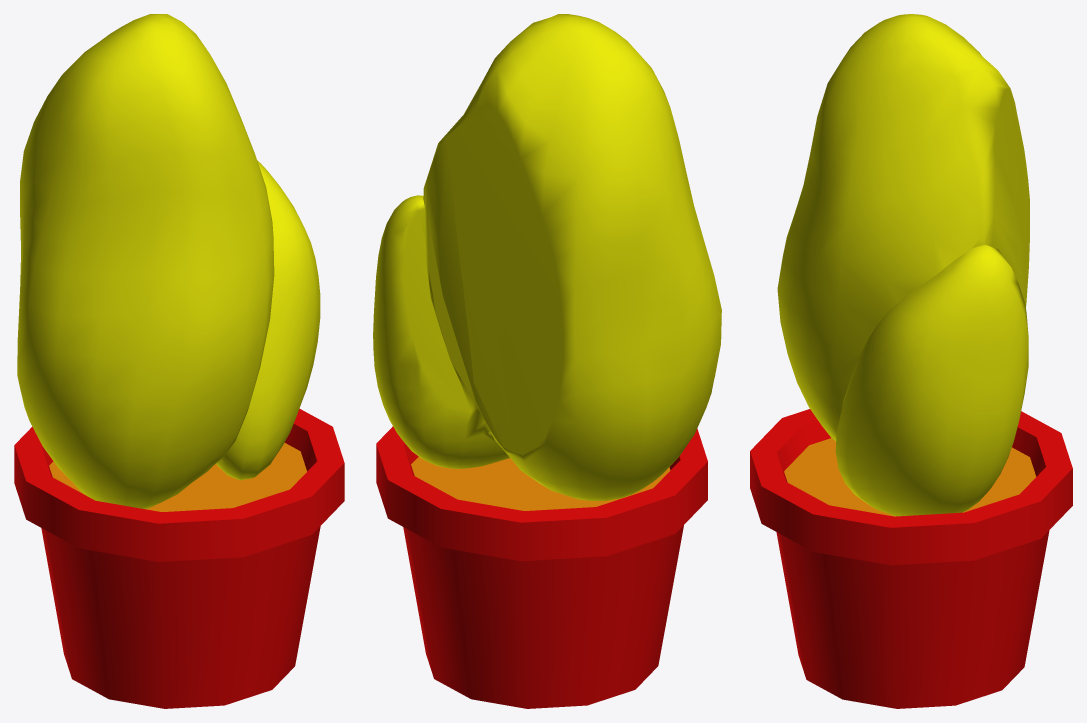
The model's file is Ficus_2.fbx.
The picture shows the model from 3 angles, left to right: view 1: azimuth 30°, elevation 25°; view 2: azimuth 150°, elevation 25°; view 3: azimuth 270°, elevation 25°; orthographic projection. The views are drawn at different scales.
Parts seen in each view (by area): view 1: Ficus_2; view 2: Ficus_2; view 3: Ficus_2.
Part boxes in pixels (x1=…): Ficus_2: x1=14, y1=14, x2=344, y2=708; Ficus_2: x1=373, y1=14, x2=721, y2=708; Ficus_2: x1=750, y1=14, x2=1072, y2=708.
Bounding box in the file's own units: 77.11 × 157 × 72.72.
